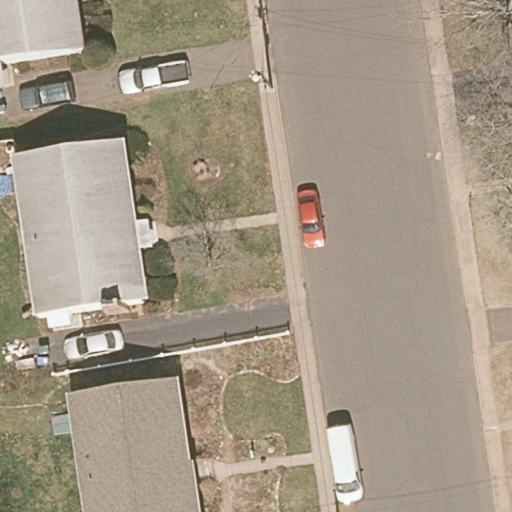DT: (247, 68, 274, 90)
